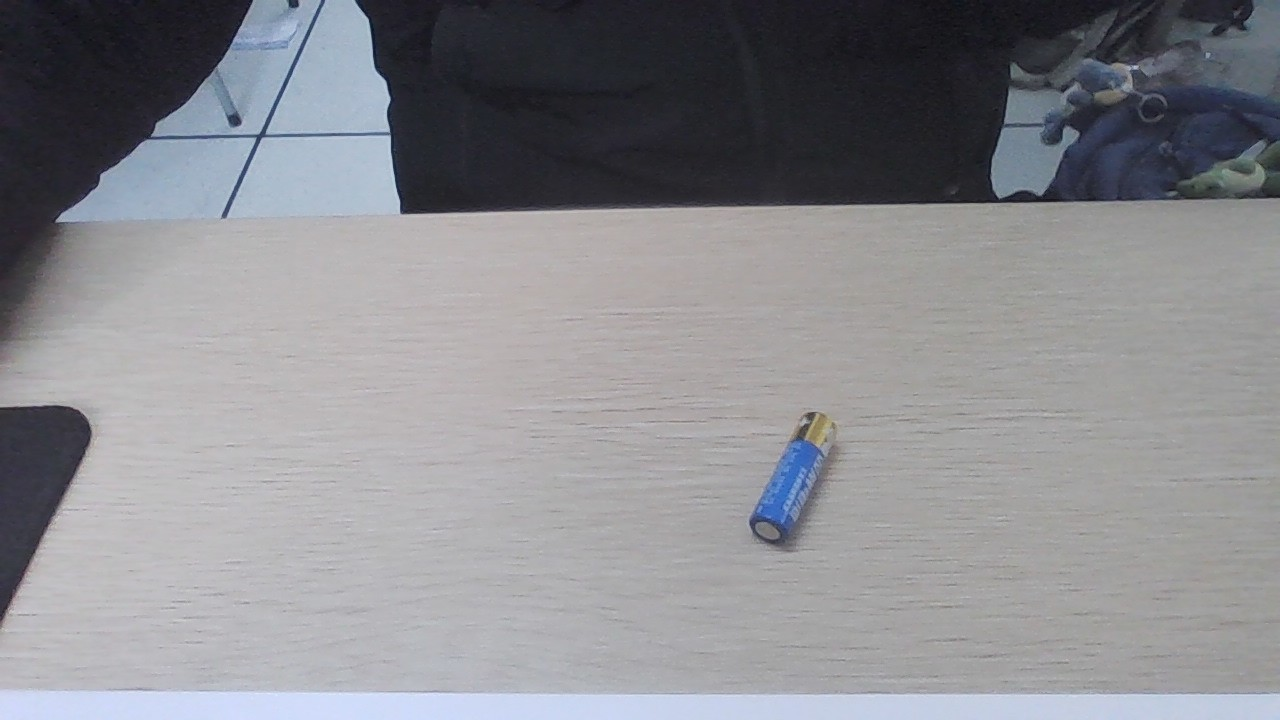YH-battery: (751, 413, 835, 542)
